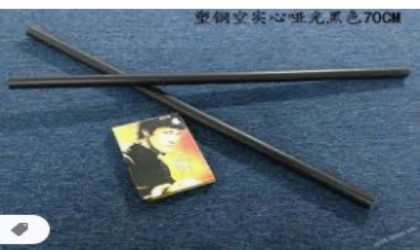baston_e: (32, 24, 361, 204), (13, 64, 399, 91)
baston_v: (362, 193, 379, 211), (23, 22, 37, 38), (397, 64, 412, 78), (4, 75, 17, 91)
